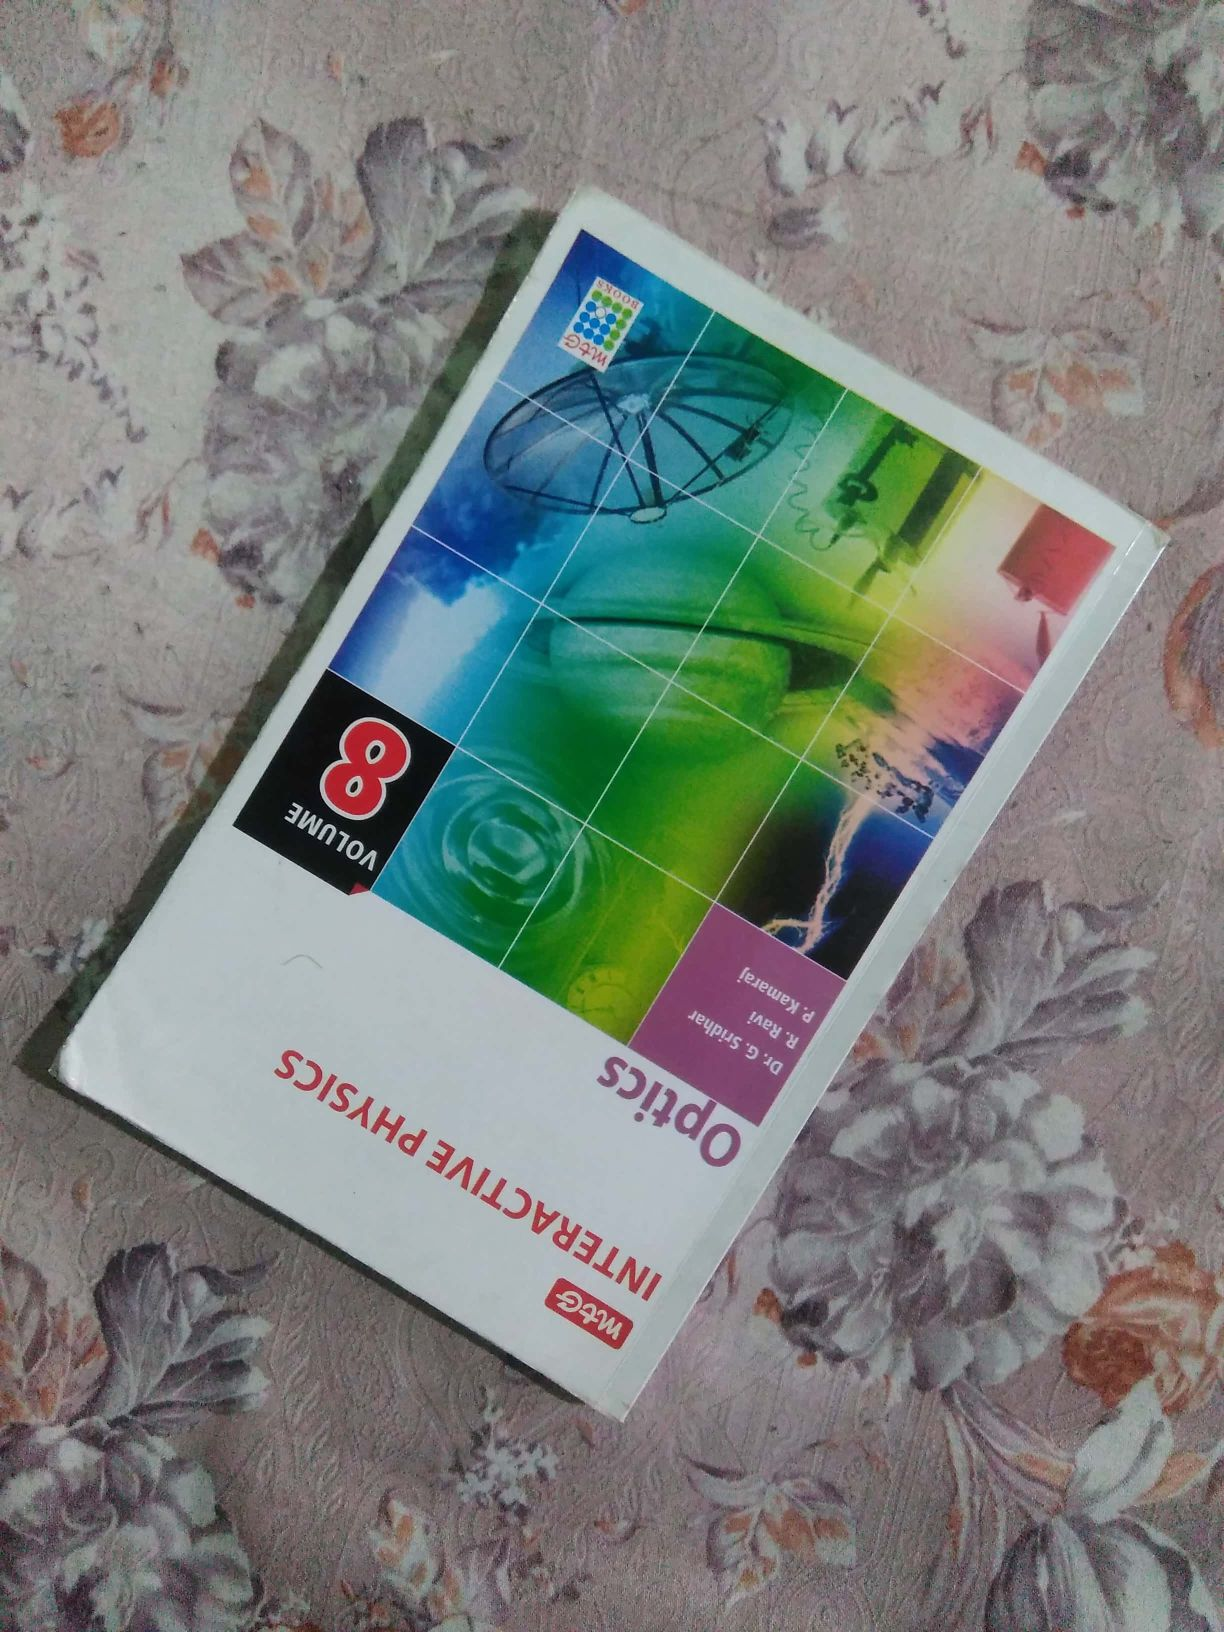optics: (54, 146, 1097, 1415)
